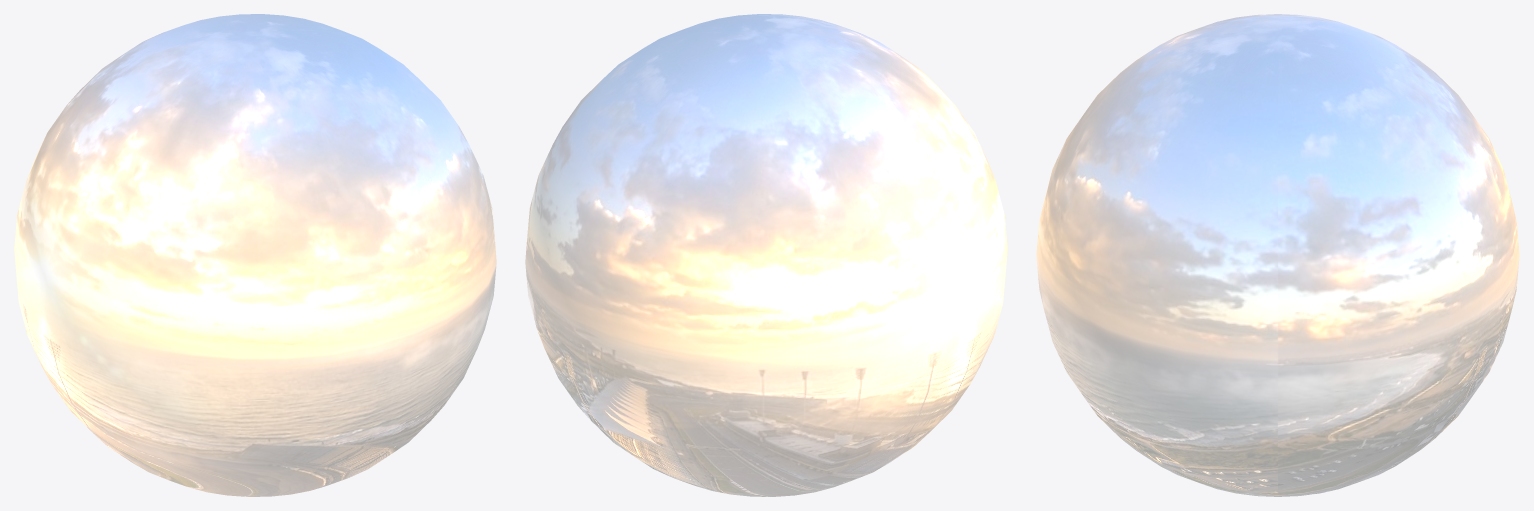
The model's file is arena.glb.
3 renders of one model, left to right at view 1: azimuth 30°, elevation 25°; view 2: azimuth 150°, elevation 25°; view 3: azimuth 270°, elevation 25°, orthographic.
Visible parts, largest first — view 1: ArenaRoot; view 2: ArenaRoot; view 3: ArenaRoot.
Part boxes in pixels (<box>): ArenaRoot: <box>14,14,496,496</box>; ArenaRoot: <box>525,14,1007,496</box>; ArenaRoot: <box>1036,14,1519,496</box>.
Bounding box in the file's own units: 480 × 480 × 480.
4 materials, 3 textured.
